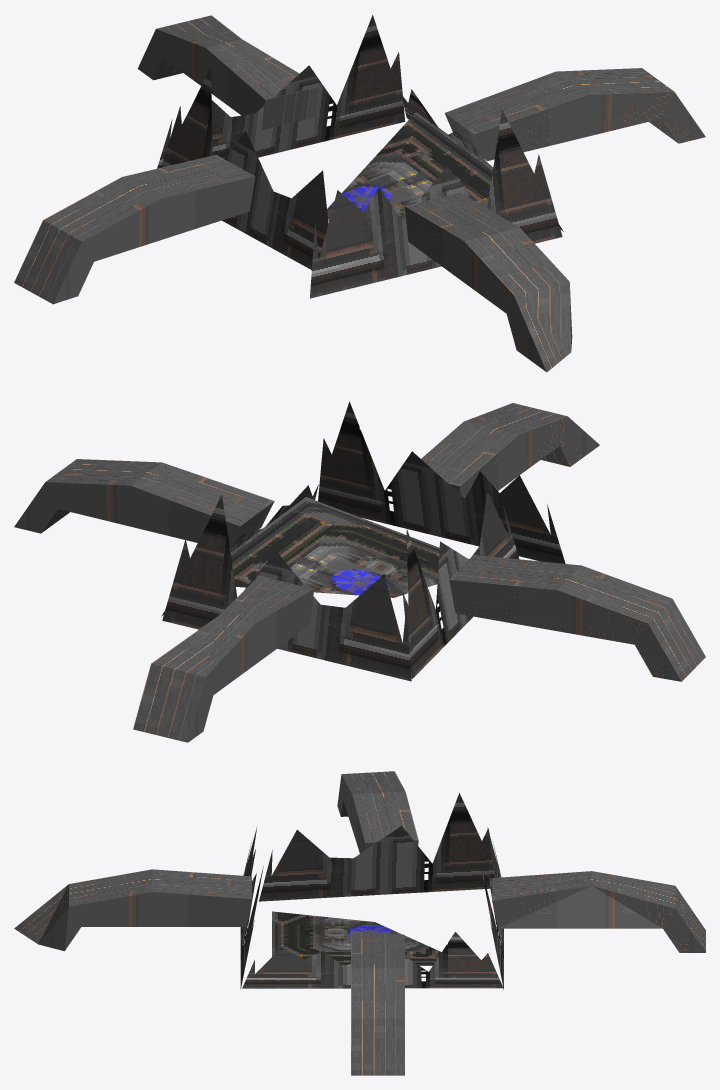
File: bunk.obj
The picture shows the model from 3 angles, top to bottom: view 1: azimuth 30°, elevation 25°; view 2: azimuth 150°, elevation 25°; view 3: azimuth 270°, elevation 25°; orthographic projection. The views are drawn at different scales.
Size of the model in its own units: 18.76 by 3.46 by 20.11.
3 materials, 3 textured.
